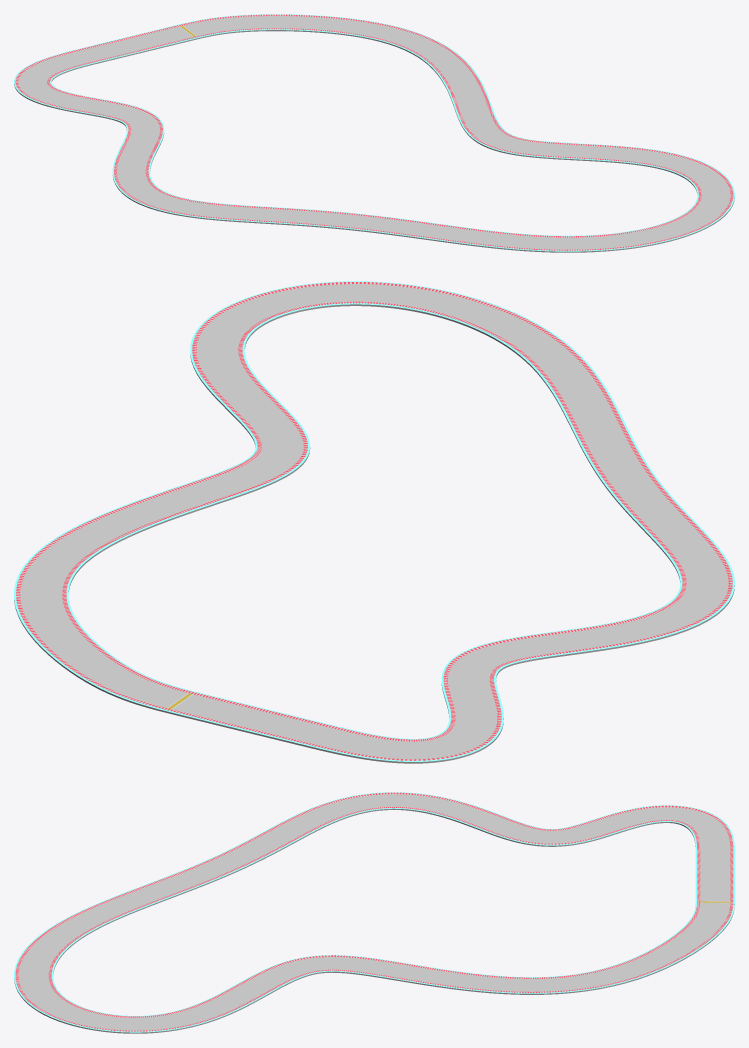
File: Track_3 (1).fbx
3 renders of one model, top to bottom at view 1: azimuth 30°, elevation 25°; view 2: azimuth 150°, elevation 25°; view 3: azimuth 270°, elevation 25°, orthographic. The views are drawn at different scales.
Visible parts, largest first — view 1: track_cross; view 2: track_cross; view 3: track_cross.
Boxes of the visible parts, <box> form: track_cross: <box>14,14,734,252</box>; track_cross: <box>14,281,734,763</box>; track_cross: <box>14,792,734,1033</box>.
Bounding box in the file's own units: 7403 × 20.06 × 9382.
